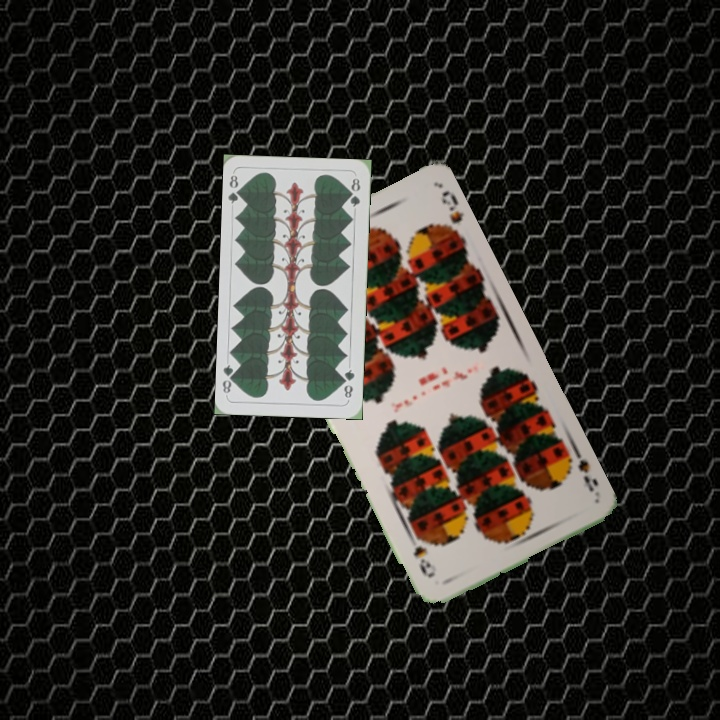G8: (225, 171, 245, 206), (339, 365, 357, 401)
S9: (558, 442, 601, 495)
